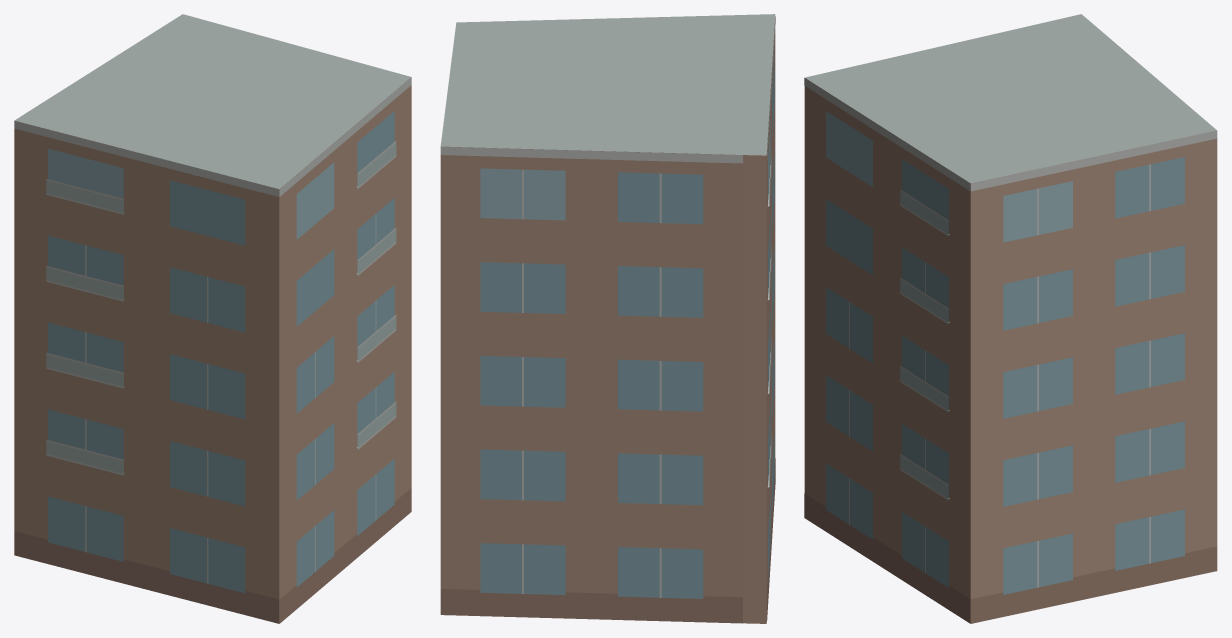
File: survey-upis-32841636.glb
3 renders of one model, left to right at view 1: azimuth 30°, elevation 25°; view 2: azimuth 150°, elevation 25°; view 3: azimuth 270°, elevation 25°, orthographic. The views are drawn at different scales.
Parts seen in each view (by area): view 1: survey-upis-32841636.tmp; view 2: survey-upis-32841636.tmp; view 3: survey-upis-32841636.tmp.
Boxes of the visible parts, bbox=[...] form: survey-upis-32841636.tmp: bbox=[14, 14, 411, 623]; survey-upis-32841636.tmp: bbox=[440, 14, 775, 623]; survey-upis-32841636.tmp: bbox=[804, 14, 1217, 623].
Bounding box in the file's own units: 11.07 × 13.4 × 11.39.
